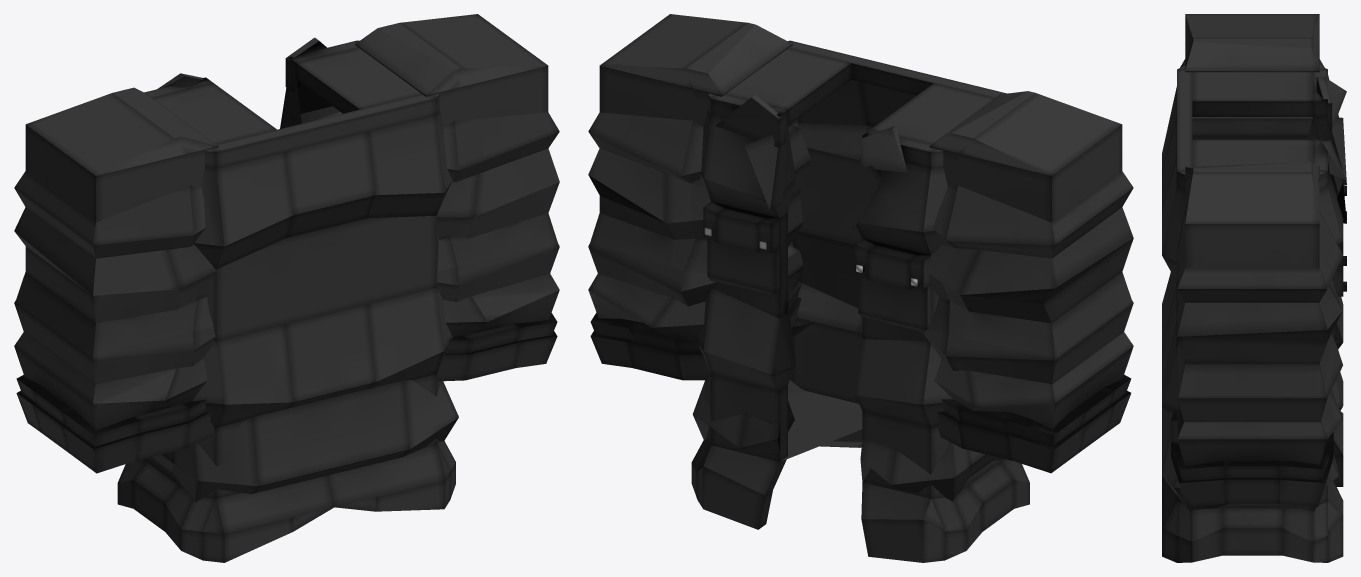
3 renders of one model, left to right at view 1: azimuth 30°, elevation 25°; view 2: azimuth 150°, elevation 25°; view 3: azimuth 270°, elevation 25°, orthographic. The views are drawn at different scales.
Visible parts, largest first — view 1: body, left_arm, right_arm, left_leg, right_leg; view 2: body, left_arm, right_arm, left_leg, right_leg; view 3: right_arm, body, left_arm, right_leg, left_leg.
Boxes of the visible parts, x1=… form: body: x1=143, y1=37, x2=458, y2=502; left_arm: x1=14, y1=87, x2=218, y2=473; right_arm: x1=355, y1=14, x2=559, y2=381; left_leg: x1=117, y1=459, x2=334, y2=562; right_leg: x1=327, y1=441, x2=455, y2=511; body: x1=692, y1=40, x2=1006, y2=501; left_arm: x1=922, y1=91, x2=1133, y2=473; right_arm: x1=588, y1=14, x2=810, y2=380; left_leg: x1=861, y1=459, x2=1029, y2=562; right_leg: x1=691, y1=389, x2=862, y2=529; right_arm: x1=1171, y1=162, x2=1342, y2=507; body: x1=1162, y1=66, x2=1346, y2=512; left_arm: x1=1180, y1=14, x2=1338, y2=139; right_leg: x1=1162, y1=477, x2=1343, y2=562; left_leg: x1=1162, y1=411, x2=1343, y2=486.
Bounding box in the file's own units: 1.09 × 0.9297 × 0.3828.
1 material, 1 textured.
